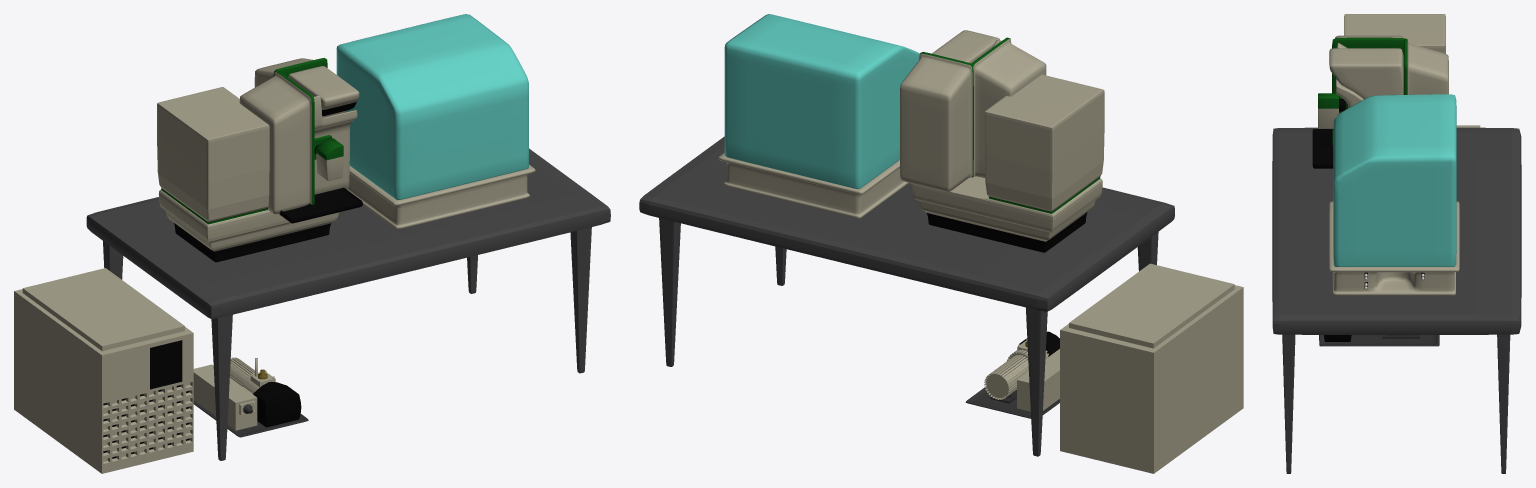
The model's file is AnalisiMetalls.fbx.
3 views of the same model, side by side, from view 1: azimuth 30°, elevation 25°; view 2: azimuth 150°, elevation 25°; view 3: azimuth 270°, elevation 25° (orthographic). The views are drawn at different scales.
Parts seen in each view (by area): view 1: Cube.020, Cube.021, Metacrilato, Cube.001, Cube.002, Cube.011, Cube.023, Cube.025, Cube.019, Cube.005, Cube.004, Cube.016 (+4 smaller); view 2: Cube.021, Cube.020, Metacrilato, Cube.001, Cube.006, Cube.011, Cube.002, Cube.022, Cube.024, Cube.019, Cube.005, Cylinder.009 (+1 smaller); view 3: Cube.021, Metacrilato, Cube.011, Cube.005, Cube.001, Cube.006, Cube.025, Cube.024, Cube.015, Cube.002, Cube.003, Cube.027 (+1 smaller).
Part boxes in pixels (<box>): Cube.020: <box>14,268,193,473</box>; Cube.021: <box>86,148,610,318</box>; Metacrilato: <box>336,14,528,200</box>; Cube.001: <box>157,87,338,262</box>; Cube.002: <box>239,70,314,214</box>; Cube.011: <box>347,164,535,228</box>; Cube.023: <box>211,314,232,460</box>; Cube.025: <box>570,227,591,373</box>; Cube.019: <box>193,364,257,430</box>; Cube.005: <box>288,66,359,117</box>; Cube.004: <box>313,95,357,194</box>; Cube.016: <box>253,382,301,427</box>; Cube.021: <box>639,136,1174,311</box>; Cube.020: <box>1060,263,1243,473</box>; Metacrilato: <box>724,14,919,188</box>; Cube.001: <box>911,74,1104,252</box>; Cube.006: <box>900,52,973,192</box>; Cube.011: <box>718,153,908,218</box>; Cube.002: <box>972,37,1046,177</box>; Cube.022: <box>1026,307,1047,456</box>; Cube.024: <box>659,218,680,366</box>; Cube.019: <box>1017,349,1059,411</box>; Cube.005: <box>932,30,999,63</box>; Cylinder.009: <box>984,355,1028,399</box>; Cube.021: <box>1272,127,1521,334</box>; Metacrilato: <box>1333,94,1456,266</box>; Cube.011: <box>1329,201,1459,295</box>; Cube.005: <box>1329,48,1403,99</box>; Cube.001: <box>1344,14,1445,53</box>; Cube.006: <box>1403,38,1448,94</box>; Cube.025: <box>1282,334,1295,473</box>; Cube.024: <box>1497,334,1510,473</box>; Cube.015: <box>1319,335,1439,346</box>; Cube.002: <box>1332,35,1404,144</box>; Cube.003: <box>1312,129,1333,168</box>; Cube.027: <box>1318,93,1338,128</box>.
Size of the model in its own units: 24.35 by 15.21 by 10.86.
